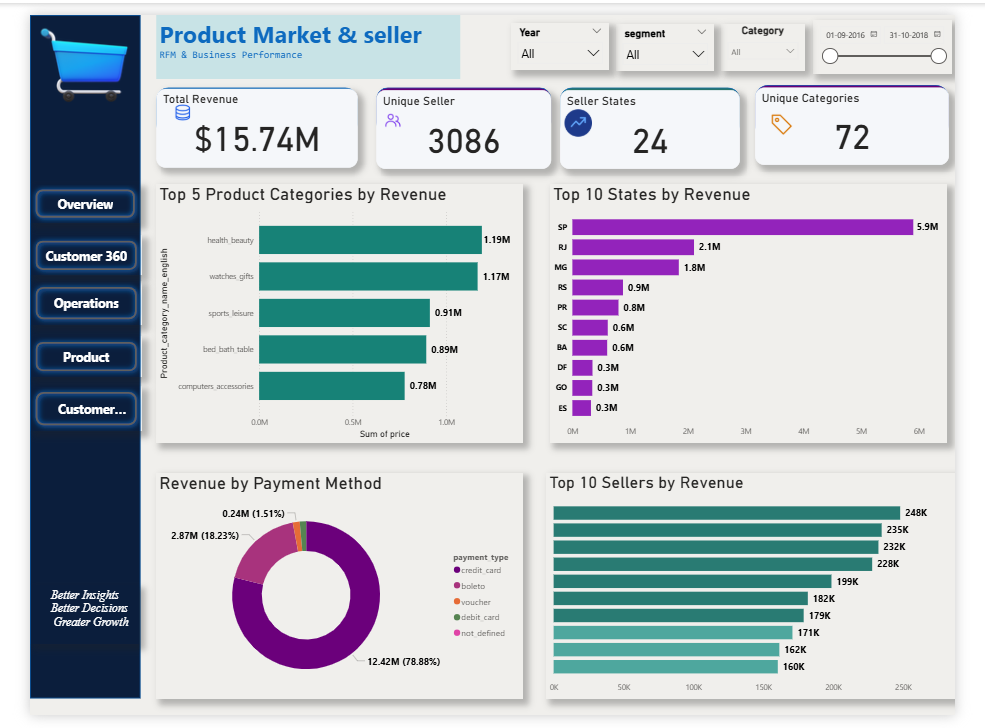

This screenshot's page, from the dashboard's own definition file:
{"tool":"powerbi","page":{"name":"Product, Market & Sellers","canvas":[1480,1120],"ordinal":3},"visuals":[{"type":"barChart","title":"Top 5 Product Categories by Revenue","fields":{"Category":["transactions_cleaned.Product_category_name_english"],"Y":["Sum(transactions_cleaned.price)"]},"box":[202,270,586,414],"z":0},{"type":"clusteredBarChart","title":"Top 10 States by Revenue","fields":{"Category":["transactions_cleaned.customer_state"],"Y":["Sum(transactions_cleaned.payment_value)"]},"box":[832,270,644,414],"z":1000},{"type":"donutChart","title":"Revenue by Payment Method","fields":{"Category":["transactions_cleaned.payment_type"],"Y":["Sum(transactions_cleaned.payment_value)"]},"box":[202,706,586,388],"z":2000},{"type":"clusteredBarChart","title":"Top 10 Sellers by Revenue","fields":{"Y":["Sum(transactions_cleaned.payment_value)"],"Category":["transactions_cleaned.seller_id"]},"box":[826,706,654,388],"z":3000},{"type":"textbox","box":[202,0,486,102],"z":4000},{"type":"slicer","fields":{"Values":["Date_Table.Year"]},"box":[770,11.7,156.7,76.7],"z":5000},{"type":"slicer","fields":{"Values":["customer_360_master.segment"]},"box":[939,14,156.7,75],"z":6000},{"type":"slicer","title":"Category","fields":{"Values":["transactions_cleaned.Product_category_name_english"]},"box":[1106.7,13.3,133.3,75],"z":7000},{"type":"slicer","fields":{"Values":["Date_Table.Date"]},"box":[1251.7,8.3,223.3,86.7],"z":8000},{"type":"shape","box":[0,0,176.7,1093.3],"z":9000},{"type":"actionButton","box":[0,270,176.7,63.3],"z":10000},{"type":"actionButton","box":[0,351.7,180,65],"z":11000},{"type":"actionButton","box":[0,425,180,70],"z":12000},{"type":"actionButton","box":[0,513.3,180,65],"z":13000},{"type":"actionButton","box":[0,593.3,180,71.7],"z":14000},{"type":"textbox","box":[0,912,174,94],"z":15000},{"type":"shape","box":[202,116,322,78],"z":16000},{"type":"card","title":"Total Revenue","fields":{"Values":["transactions_cleaned.Total Revenue"]},"box":[202,118,322,126],"z":17000},{"type":"shape","box":[554,116,280,74],"z":18000},{"type":"shape","box":[848,116,288,78],"z":19000},{"type":"shape","box":[1160,112,310,84],"z":20000},{"type":"card","title":"Unique Seller","fields":{"Values":["transactions_cleaned.Unique Sellers"]},"box":[554,120,280,126],"z":21000},{"type":"card","title":"Seller States","fields":{"Values":["transactions_cleaned.Unique Seller States"]},"box":[848,120,288,126],"z":22000},{"type":"card","title":"Unique Categories","fields":{"Values":["transactions_cleaned.Unique Categories"]},"box":[1160,116,310,124],"z":23000},{"type":"image","box":[216,134,56,44],"z":24000},{"type":"image","box":[554,148,54,42],"z":25000},{"type":"image","box":[1174,148,58,50],"z":26000},{"type":"image","box":[848,146,58,54],"z":27000},{"type":"image","box":[0,0,180,156],"z":28000}]}

Visuals, with their boxes in screenshot pixels (x1, y1, x2, y2), scaled from the page's 1480x1120 canvas onto the 985x728 screenshot:
"Top 5 Product Categories by Revenue" barChart: {"x1": 134, "y1": 176, "x2": 524, "y2": 445}
"Top 10 States by Revenue" clusteredBarChart: {"x1": 554, "y1": 176, "x2": 982, "y2": 445}
"Revenue by Payment Method" donutChart: {"x1": 134, "y1": 459, "x2": 524, "y2": 711}
"Top 10 Sellers by Revenue" clusteredBarChart: {"x1": 550, "y1": 459, "x2": 984, "y2": 711}
textbox: {"x1": 134, "y1": 0, "x2": 458, "y2": 66}
slicer - Date_Table.Year: {"x1": 512, "y1": 8, "x2": 617, "y2": 57}
slicer - customer_360_master.segment: {"x1": 625, "y1": 9, "x2": 729, "y2": 58}
"Category" slicer: {"x1": 737, "y1": 9, "x2": 825, "y2": 57}
slicer - Date_Table.Date: {"x1": 833, "y1": 5, "x2": 982, "y2": 62}
shape: {"x1": 0, "y1": 0, "x2": 118, "y2": 711}
actionButton: {"x1": 0, "y1": 176, "x2": 118, "y2": 217}
actionButton: {"x1": 0, "y1": 229, "x2": 120, "y2": 271}
actionButton: {"x1": 0, "y1": 276, "x2": 120, "y2": 322}
actionButton: {"x1": 0, "y1": 334, "x2": 120, "y2": 376}
actionButton: {"x1": 0, "y1": 386, "x2": 120, "y2": 432}
textbox: {"x1": 0, "y1": 593, "x2": 116, "y2": 654}
shape: {"x1": 134, "y1": 75, "x2": 349, "y2": 126}
"Total Revenue" card: {"x1": 134, "y1": 77, "x2": 349, "y2": 159}
shape: {"x1": 369, "y1": 75, "x2": 555, "y2": 124}
shape: {"x1": 564, "y1": 75, "x2": 756, "y2": 126}
shape: {"x1": 772, "y1": 73, "x2": 978, "y2": 127}
"Unique Seller" card: {"x1": 369, "y1": 78, "x2": 555, "y2": 160}
"Seller States" card: {"x1": 564, "y1": 78, "x2": 756, "y2": 160}
"Unique Categories" card: {"x1": 772, "y1": 75, "x2": 978, "y2": 156}
image: {"x1": 144, "y1": 87, "x2": 181, "y2": 116}
image: {"x1": 369, "y1": 96, "x2": 405, "y2": 124}
image: {"x1": 781, "y1": 96, "x2": 820, "y2": 129}
image: {"x1": 564, "y1": 95, "x2": 603, "y2": 130}
image: {"x1": 0, "y1": 0, "x2": 120, "y2": 101}
